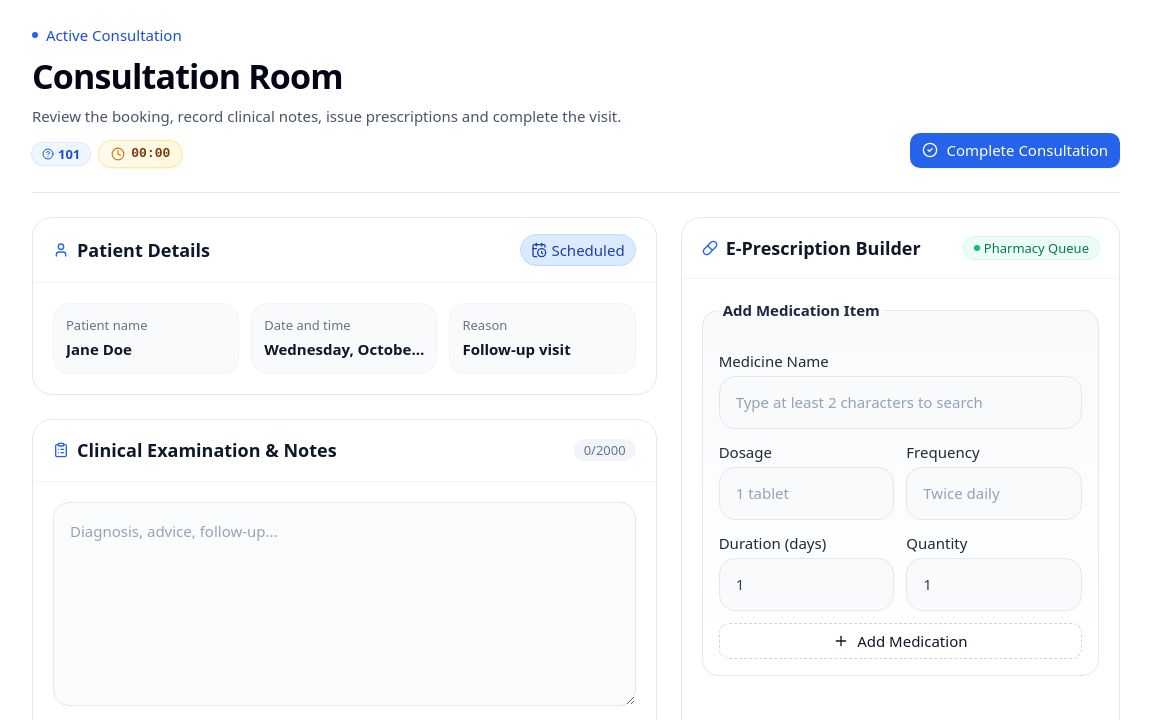
Test: ConsultationPage (DOC-04) — full consultation workflow › blocks an empty prescription item with a validation message
Expected: the heading "Consultation Room" is shown, [32,52,343,98]
Expected: the heading "Patient Details" is shown, [77,236,210,264]
Click the button "Add Medication" at (900, 641), box [719,623,1082,660]
(page scrolled)
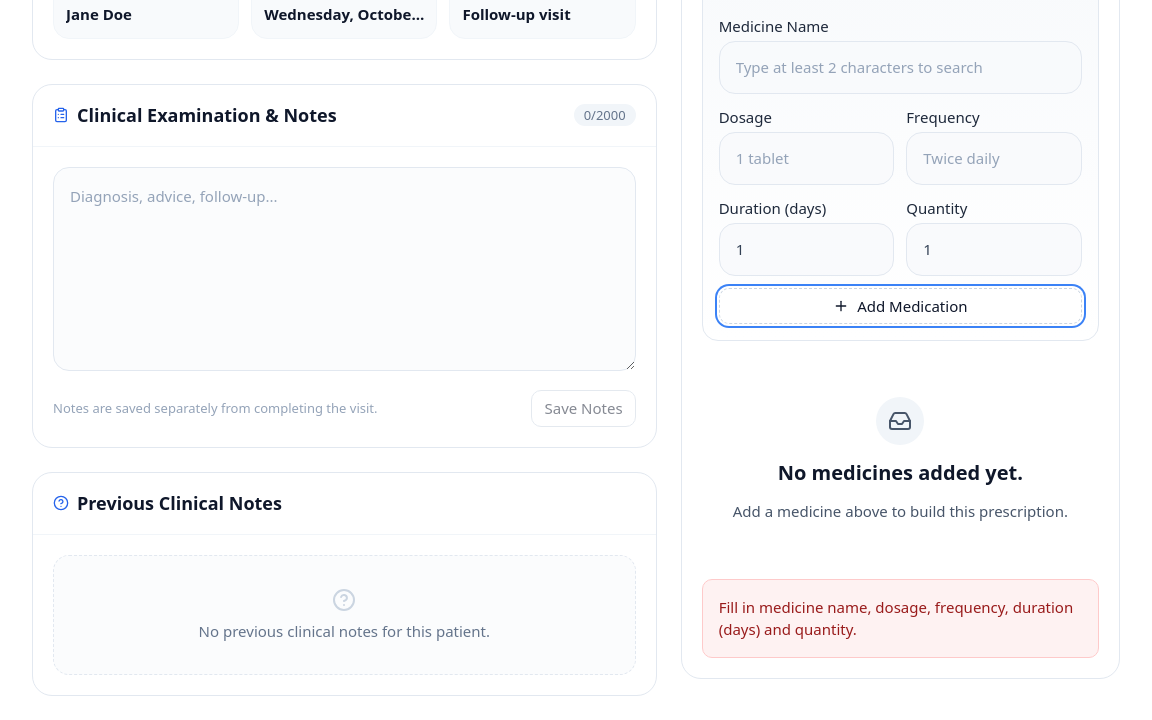
Expected: the message "Fill in medicine name, dosage, frequency, duration (days) and quantity." is shown, [702,579,1099,658]
